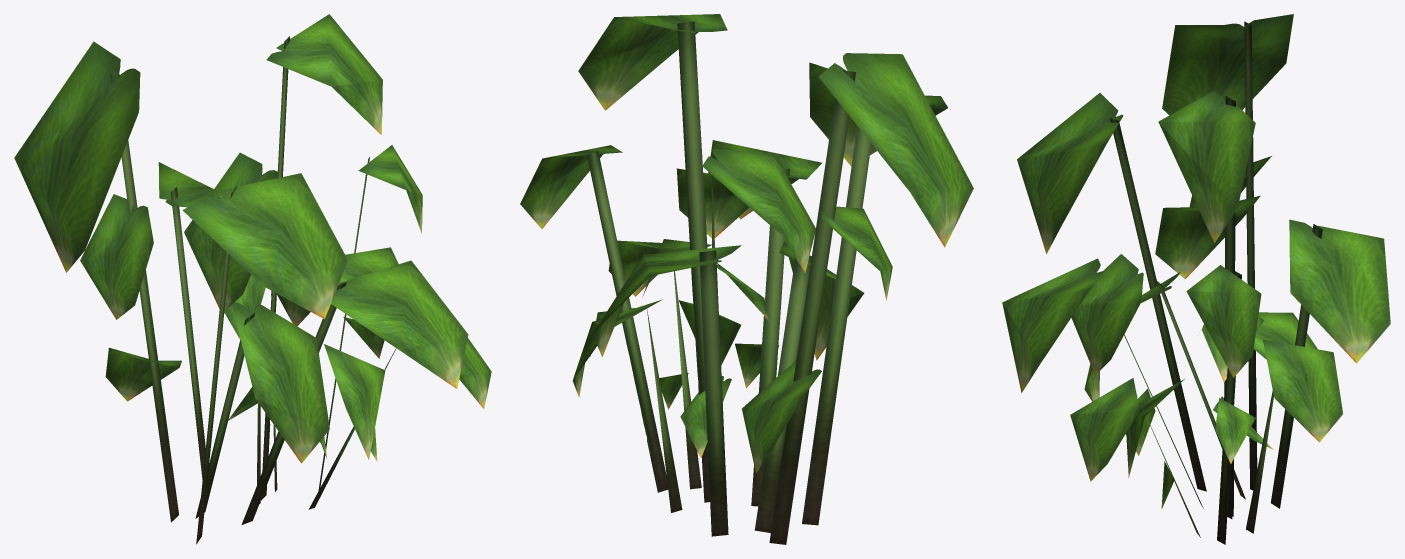
File: leafplant_lod2.fbx
3 renders of one model, left to right at view 1: azimuth 30°, elevation 25°; view 2: azimuth 150°, elevation 25°; view 3: azimuth 270°, elevation 25°, orthographic. The views are drawn at different scales.
Parts seen in each view (by area): view 1: Mesh Object; view 2: Mesh Object; view 3: Mesh Object.
Part boxes in pixels (x1=…): Mesh Object: x1=14, y1=14, x2=491, y2=544; Mesh Object: x1=520, y1=14, x2=973, y2=544; Mesh Object: x1=1002, y1=14, x2=1390, y2=544.
Bounding box in the file's own units: 1.61 × 1.89 × 1.47.
